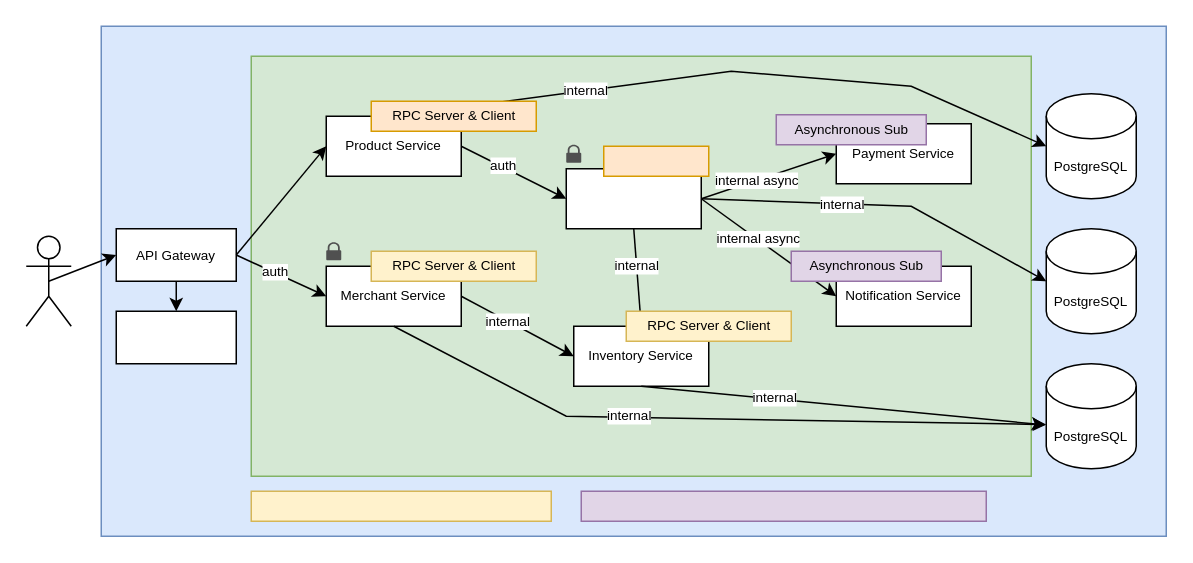
Some shapes in this 1193 by 563 pixel diagram are drawn without their labels. The centre of each missing label's shape, as x and y in pixels:
"Actor" goes at [48,280].
"Auth Server" goes at [175,337].
"Internal Communication Asynchronous PUB/SUB RabbitMQ" goes at [783,505].
"Internal Communication Synchornous RPC" goes at [400,505].
"Order Service" goes at [633,198].
"RPC Server" goes at [655,160].
